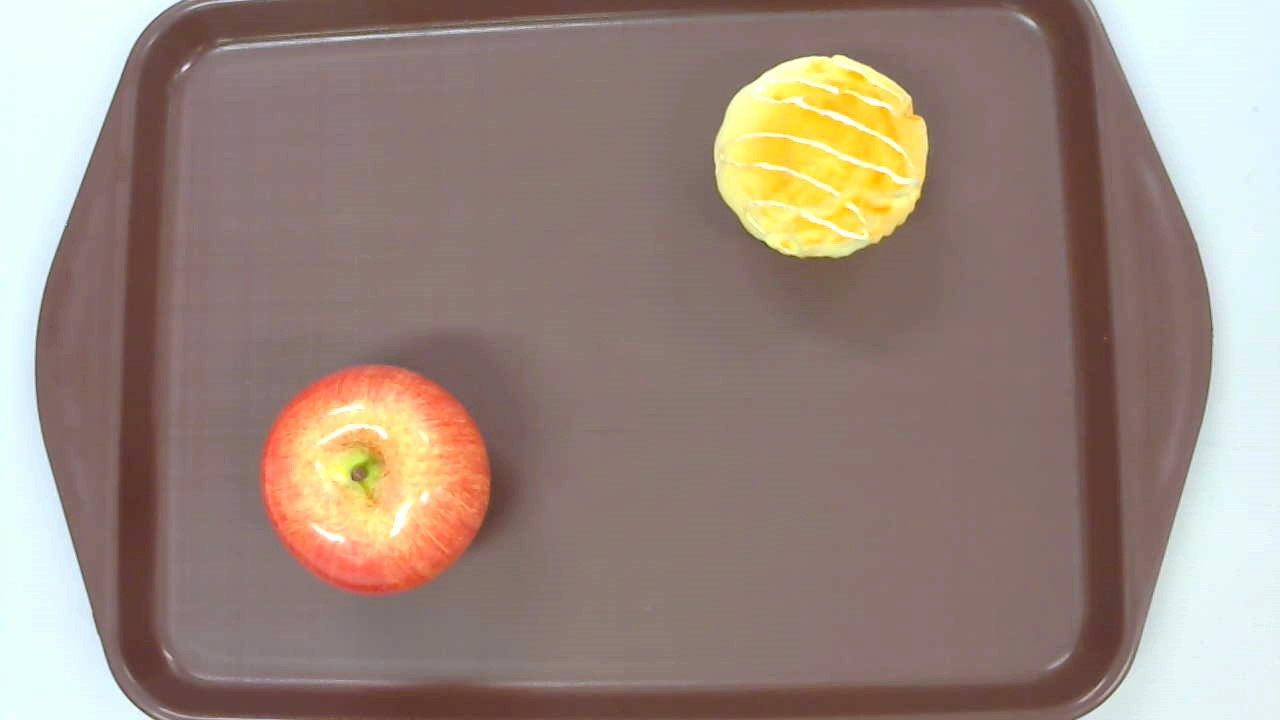cupcake: (714, 54, 927, 260)
red apple: (261, 363, 490, 599)
